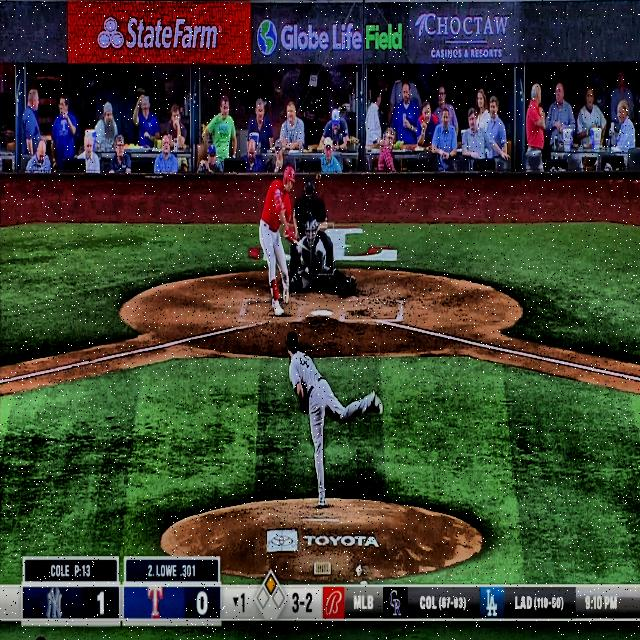baseball: (305, 266, 309, 275)
